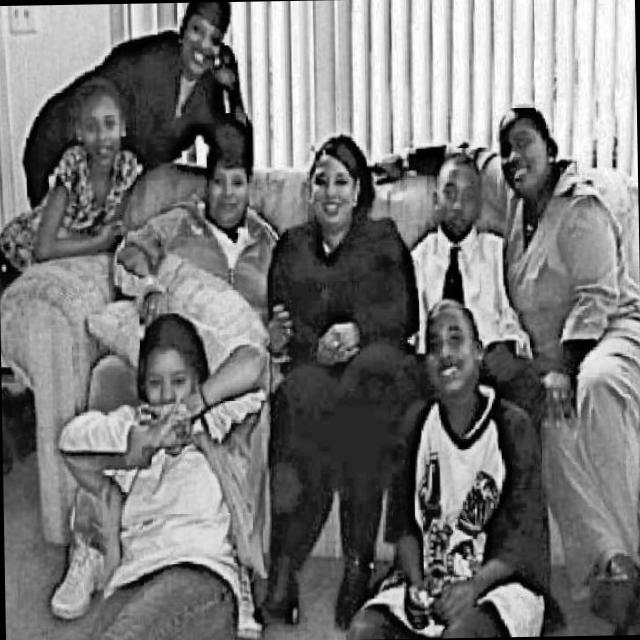Person: (367, 94, 640, 639), (258, 131, 424, 628), (50, 311, 275, 640), (335, 298, 551, 640), (19, 1, 247, 208), (0, 78, 138, 359), (107, 127, 280, 330), (402, 157, 530, 360)
